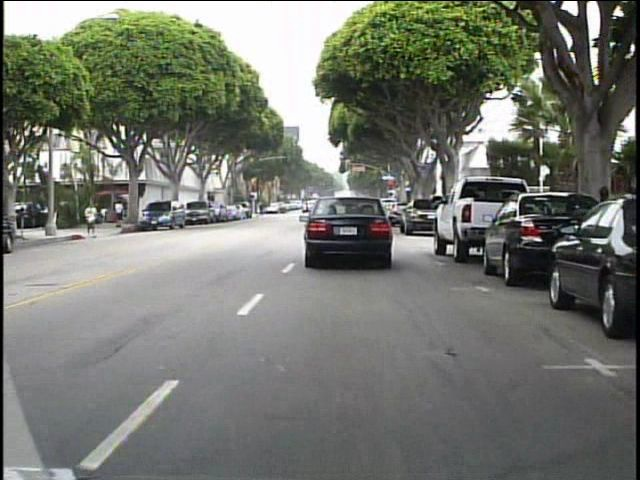person: (79, 196, 98, 239), (115, 197, 128, 228), (253, 199, 266, 221)
